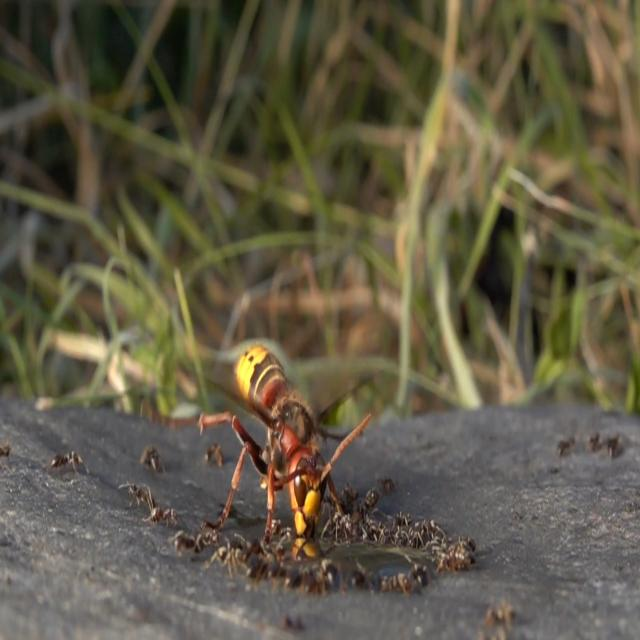Hornets: (180, 316, 372, 549)
